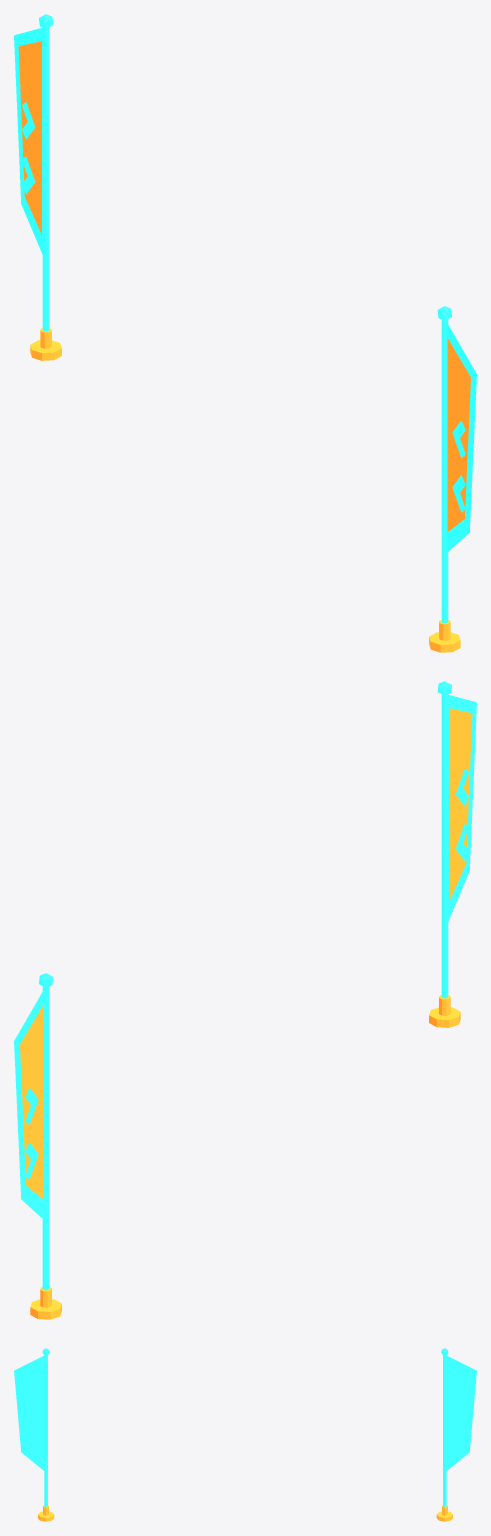
The model's file is CheckpointGate.glb.
3 views of the same model, one above another, from view 1: azimuth 30°, elevation 25°; view 2: azimuth 150°, elevation 25°; view 3: azimuth 270°, elevation 25° (orthographic). The views are drawn at different scales.
Parts seen in each view (by area): view 1: Checkpoint_Cyan_Mesh, Checkpoint_Orange_Mesh; view 2: Checkpoint_Cyan_Mesh, Checkpoint_Orange_Mesh; view 3: Checkpoint_Cyan_Mesh, Checkpoint_Orange_Mesh.
Boxes of the visible parts, x1=… form: Checkpoint_Cyan_Mesh: x1=14, y1=14, x2=476, y2=623; Checkpoint_Orange_Mesh: x1=18, y1=41, x2=470, y2=652; Checkpoint_Cyan_Mesh: x1=14, y1=681, x2=476, y2=1290; Checkpoint_Orange_Mesh: x1=20, y1=708, x2=472, y2=1319; Checkpoint_Cyan_Mesh: x1=14, y1=1348, x2=476, y2=1506; Checkpoint_Orange_Mesh: x1=38, y1=1505, x2=452, y2=1521.
Bounding box in the file's own units: 0.34 × 3.91 × 9.66.
